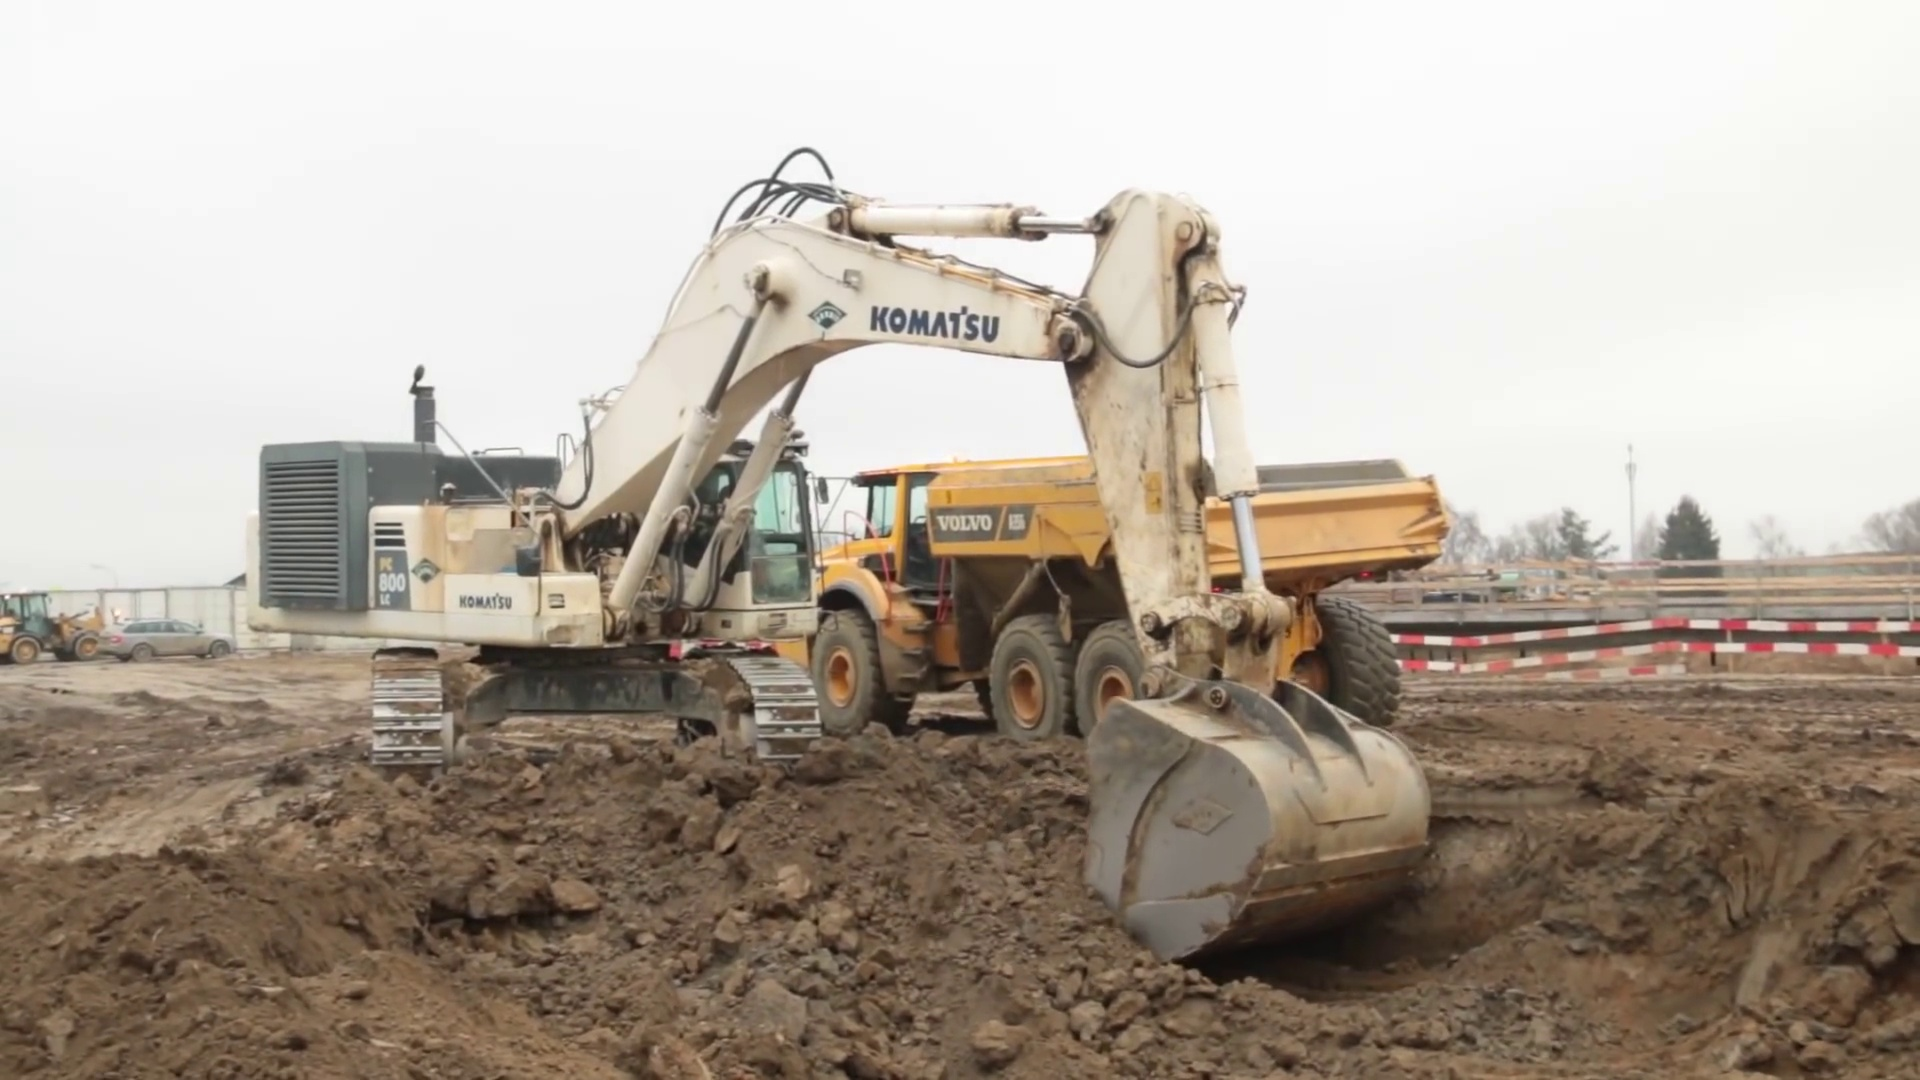car: (109, 618, 228, 659)
dumper: (824, 459, 1453, 738)
excavator: (244, 160, 1433, 965)
